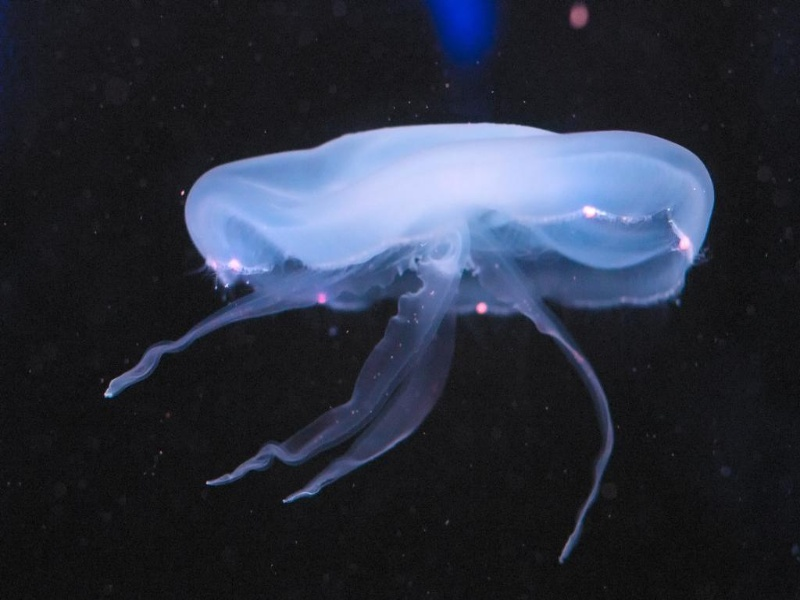Jellyfish: (102, 120, 709, 540)
